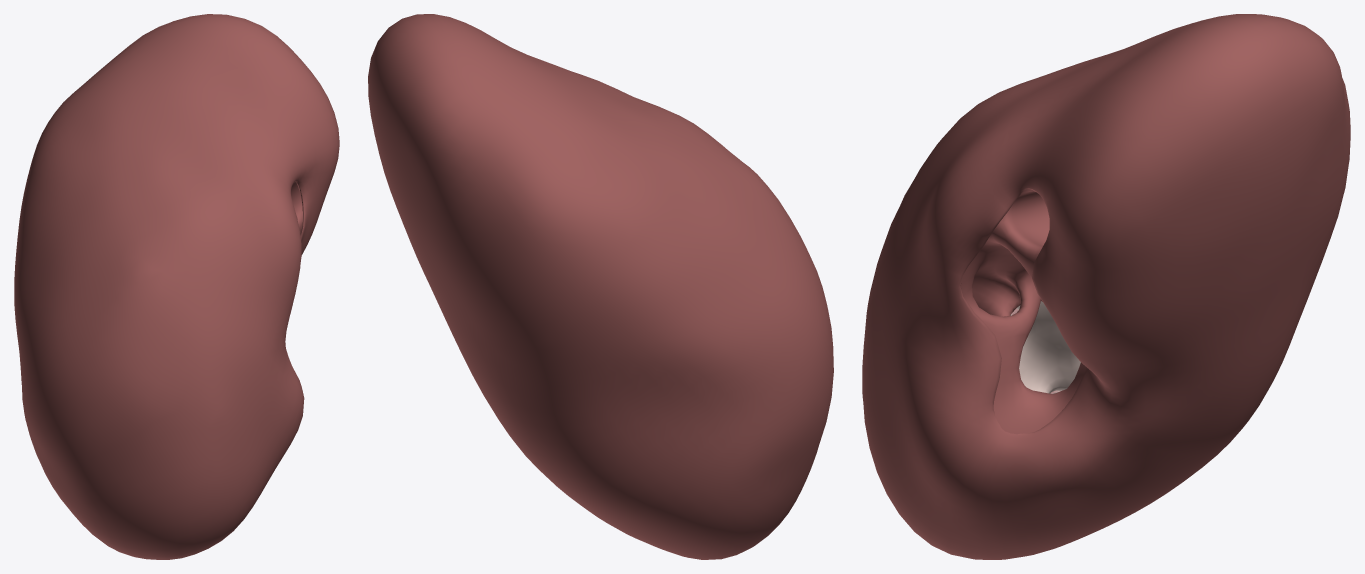
The model's file is 3d-vh-f-kidney-r.glb.
3 renders of one model, left to right at view 1: azimuth 30°, elevation 25°; view 2: azimuth 150°, elevation 25°; view 3: azimuth 270°, elevation 25°, orthographic. The views are drawn at different scales.
Parts seen in each view (by area): view 1: VH_F_kidney_capsule_R; view 2: VH_F_kidney_capsule_R; view 3: VH_F_kidney_capsule_R, VH_F_hilum_of_kidney_R, VH_F_renal_column_R.
Boxes of the visible parts, x1,y1,x2,y2 form: VH_F_kidney_capsule_R: (14,14,339,559); VH_F_kidney_capsule_R: (368,14,833,559); VH_F_kidney_capsule_R: (862,14,1350,559); VH_F_hilum_of_kidney_R: (960,189,1086,434); VH_F_renal_column_R: (1010,301,1080,393).
Size of the model in its own units: 0.0734 by 0.0979 by 0.0695.
